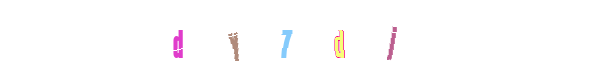7: (262, 0, 342, 80)
D: (180, 0, 260, 80), (268, 0, 348, 80)
J: (299, 0, 379, 80)
Y: (246, 0, 326, 80)
